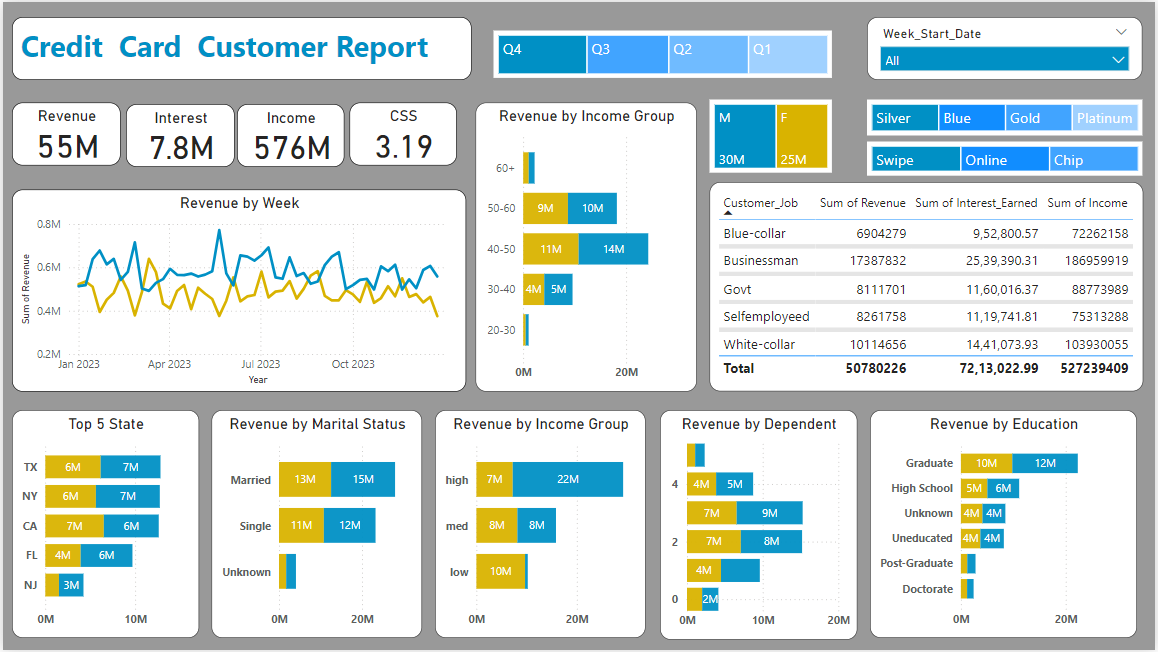

The dashboard page shown, as its layout file describes it:
{"tool":"powerbi","page":{"name":"customer_details","canvas":[1280,720],"ordinal":2},"visuals":[{"type":"textbox","box":[9.5,15.9,510.6,70],"z":0},{"type":"tableEx","fields":{"Values":["customer.Customer_Job","Sum(credit_card.Revenue)","Sum(credit_card.Interest_Earned)","Sum(customer.Income)"]},"box":[784.3,200.3,481.9,232.4],"z":1000},{"type":"card","title":"Revenue","fields":{"Values":["Sum(credit_card.Revenue)"]},"box":[9.4,111.5,120.9,69.9],"z":2000},{"type":"card","title":"Interest ","fields":{"Values":["Sum(credit_card.Interest_Earned)"]},"box":[136.1,113.4,120.9,69.9],"z":3000},{"type":"card","title":"CSS","fields":{"Values":["Avg(customer.Cust_Satisfaction_Score)"]},"box":[385.5,111.5,119.1,69.9],"z":4000},{"type":"card","title":"Income","fields":{"Values":["Sum(customer.Income)"]},"box":[260.8,113.4,119.1,69.9],"z":5000},{"type":"slicer","fields":{"Values":["credit_card.Week_Start_Date"]},"box":[960,17,306.1,69.9],"z":6000},{"type":"treemap","fields":{"Group":["credit_card.Qtr"],"Values":["Avg(credit_card.Client_Num)"]},"box":[544.3,32.1,376.1,52.9],"z":7000},{"type":"treemap","fields":{"Values":["Avg(credit_card.Client_Num)"],"Group":["credit_card.Use Chip"]},"box":[960,155,306.1,37.8],"z":8000},{"type":"lineChart","title":"Revenue by Week","fields":{"Y":["Sum(credit_card.Revenue)"],"Series":["customer.Gender"],"Category":["credit_card.Week_Start_Date.Variation.Date Hierarchy.Year","credit_card.Week_Start_Date.Variation.Date Hierarchy.Month","credit_card.Week_Start_Date.Variation.Date Hierarchy.Day"]},"box":[9.4,207.9,504.6,224.9],"z":9000},{"type":"treemap","fields":{"Group":["customer.Gender"],"Values":["Sum(credit_card.Revenue)"]},"box":[784.3,107.7,136.1,81.3],"z":10000},{"type":"barChart","title":"Revenue by Income Group ","fields":{"Y":["Sum(credit_card.Revenue)"],"Category":["customer.Age_group"],"Series":["customer.Gender"]},"box":[525.4,111.5,245.7,321.3],"z":11000},{"type":"barChart","title":"Revenue by Dependent","fields":{"Y":["Sum(credit_card.Revenue)"],"Category":["customer.Dependent_Count"],"Series":["customer.Gender"]},"box":[729.5,453.5,219.2,255.1],"z":12000},{"type":"barChart","title":"Revenue by Education","fields":{"Y":["Sum(credit_card.Revenue)"],"Category":["customer.Education_Level"],"Series":["customer.Gender"]},"box":[963.8,453.5,296.7,253.2],"z":13000},{"type":"barChart","title":"Top 5 State","fields":{"Y":["Sum(credit_card.Revenue)"],"Category":["customer.state_cd"],"Series":["customer.Gender"]},"box":[9.4,453.5,207.9,253.2],"z":14000},{"type":"barChart","title":"Revenue by Marital Status","fields":{"Y":["Sum(credit_card.Revenue)"],"Category":["customer.Marital_Status"],"Series":["customer.Gender"]},"box":[232.4,453.5,234.3,253.2],"z":15000},{"type":"barChart","title":"Revenue by Income Group ","fields":{"Y":["Sum(credit_card.Revenue)"],"Category":["customer.Income_group"],"Series":["customer.Gender"]},"box":[480,453.5,234.3,253.2],"z":16000},{"type":"treemap","fields":{"Group":["credit_card.Card_Category"],"Values":["Avg(credit_card.Client_Num)"]},"box":[960,107.7,306.1,39.7],"z":17000}]}

Visuals, with their boxes in screenshot pixels (x1, y1, x2, y2), scaled from the page's 1280x720 canvas onto the 1158x652 screenshot:
textbox: 9 14 471 78
tableEx - customer.Customer_Job x Sum(credit_card.Revenue): 710 181 1146 392
"Revenue" card: 9 101 118 164
"Interest " card: 123 103 233 166
"CSS" card: 349 101 457 164
"Income" card: 236 103 344 166
slicer - credit_card.Week_Start_Date: 868 15 1145 79
treemap - credit_card.Qtr x Avg(credit_card.Client_Num): 492 29 833 77
treemap - Avg(credit_card.Client_Num) x credit_card.Use Chip: 868 140 1145 175
"Revenue by Week" lineChart: 9 188 465 392
treemap - customer.Gender x Sum(credit_card.Revenue): 710 98 833 171
"Revenue by Income Group " barChart: 475 101 698 392
"Revenue by Dependent" barChart: 660 411 858 642
"Revenue by Education" barChart: 872 411 1140 640
"Top 5 State" barChart: 9 411 197 640
"Revenue by Marital Status" barChart: 210 411 422 640
"Revenue by Income Group " barChart: 434 411 646 640
treemap - credit_card.Card_Category x Avg(credit_card.Client_Num): 868 98 1145 133
